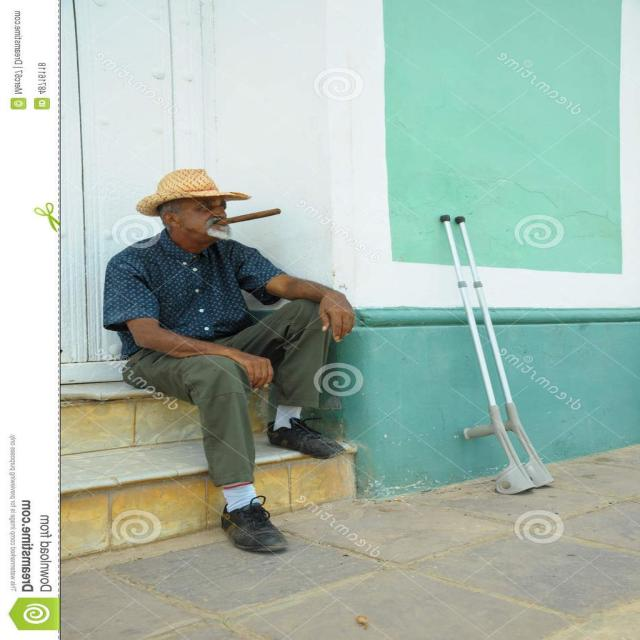smoking: (152, 184, 292, 247)
